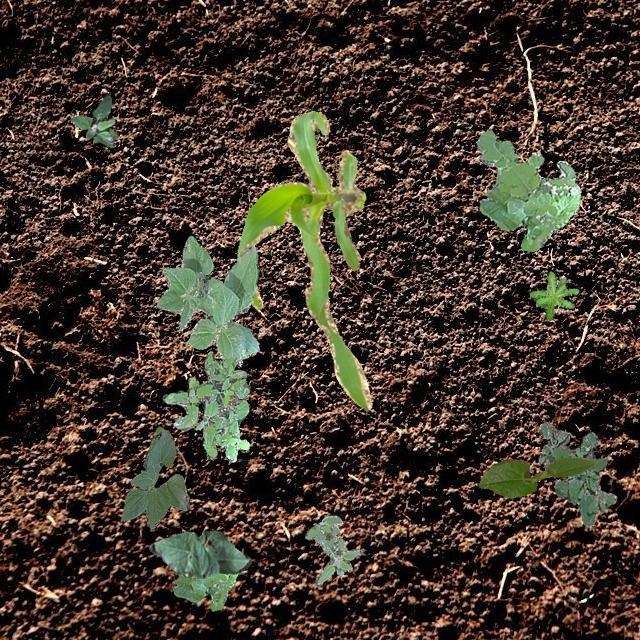crop: (237, 110, 371, 410), (156, 235, 258, 362), (120, 426, 188, 528), (478, 456, 596, 498), (150, 530, 250, 576)
weed: (476, 130, 580, 250), (162, 350, 248, 460), (538, 421, 616, 526), (304, 514, 362, 584), (171, 572, 237, 610), (528, 270, 578, 320), (70, 94, 118, 146)
